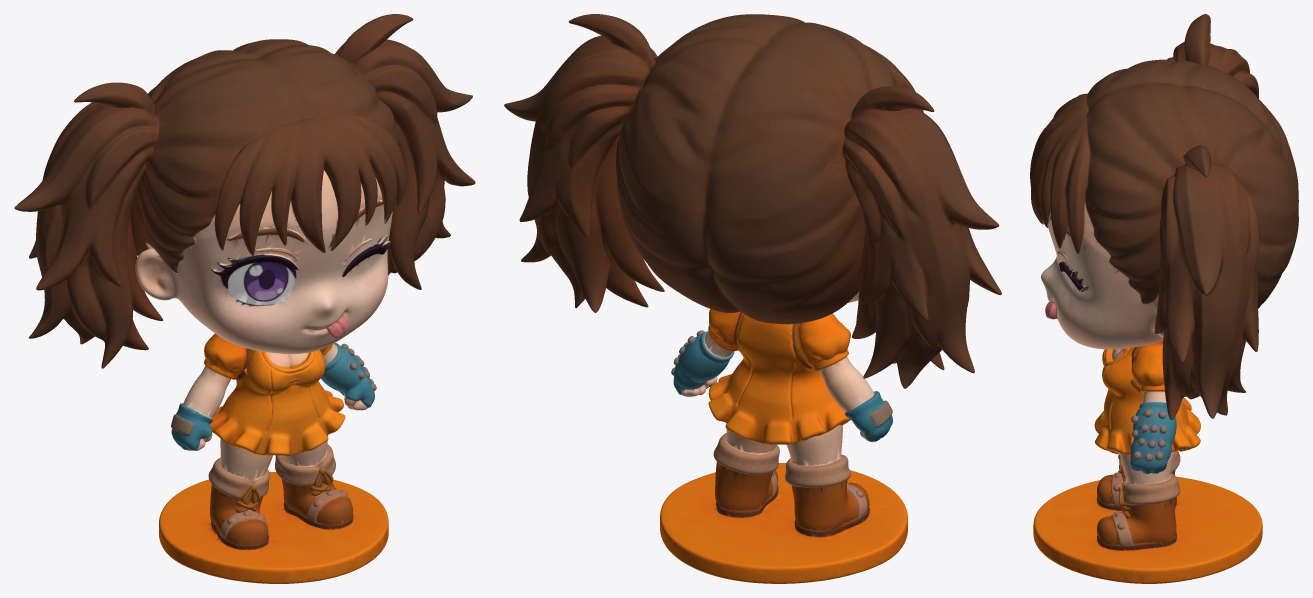
File: guerrera-gigante-chibi-a.glb
3 views of the same model, side by side, from view 1: azimuth 30°, elevation 25°; view 2: azimuth 150°, elevation 25°; view 3: azimuth 270°, elevation 25° (orthographic). The views are drawn at different scales.
Bounding box in the file's own units: 1.9 × 1.87 × 0.9944.
1 material, 1 textured.
